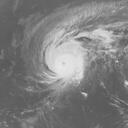cyclone: (27, 1, 127, 90)
